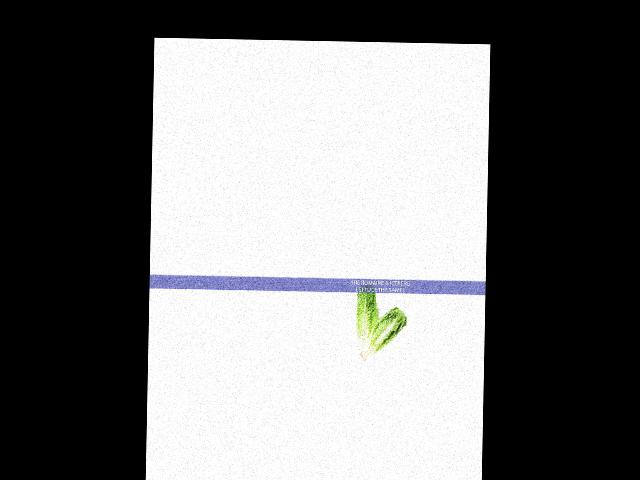lettuce: (360, 303, 405, 368)
